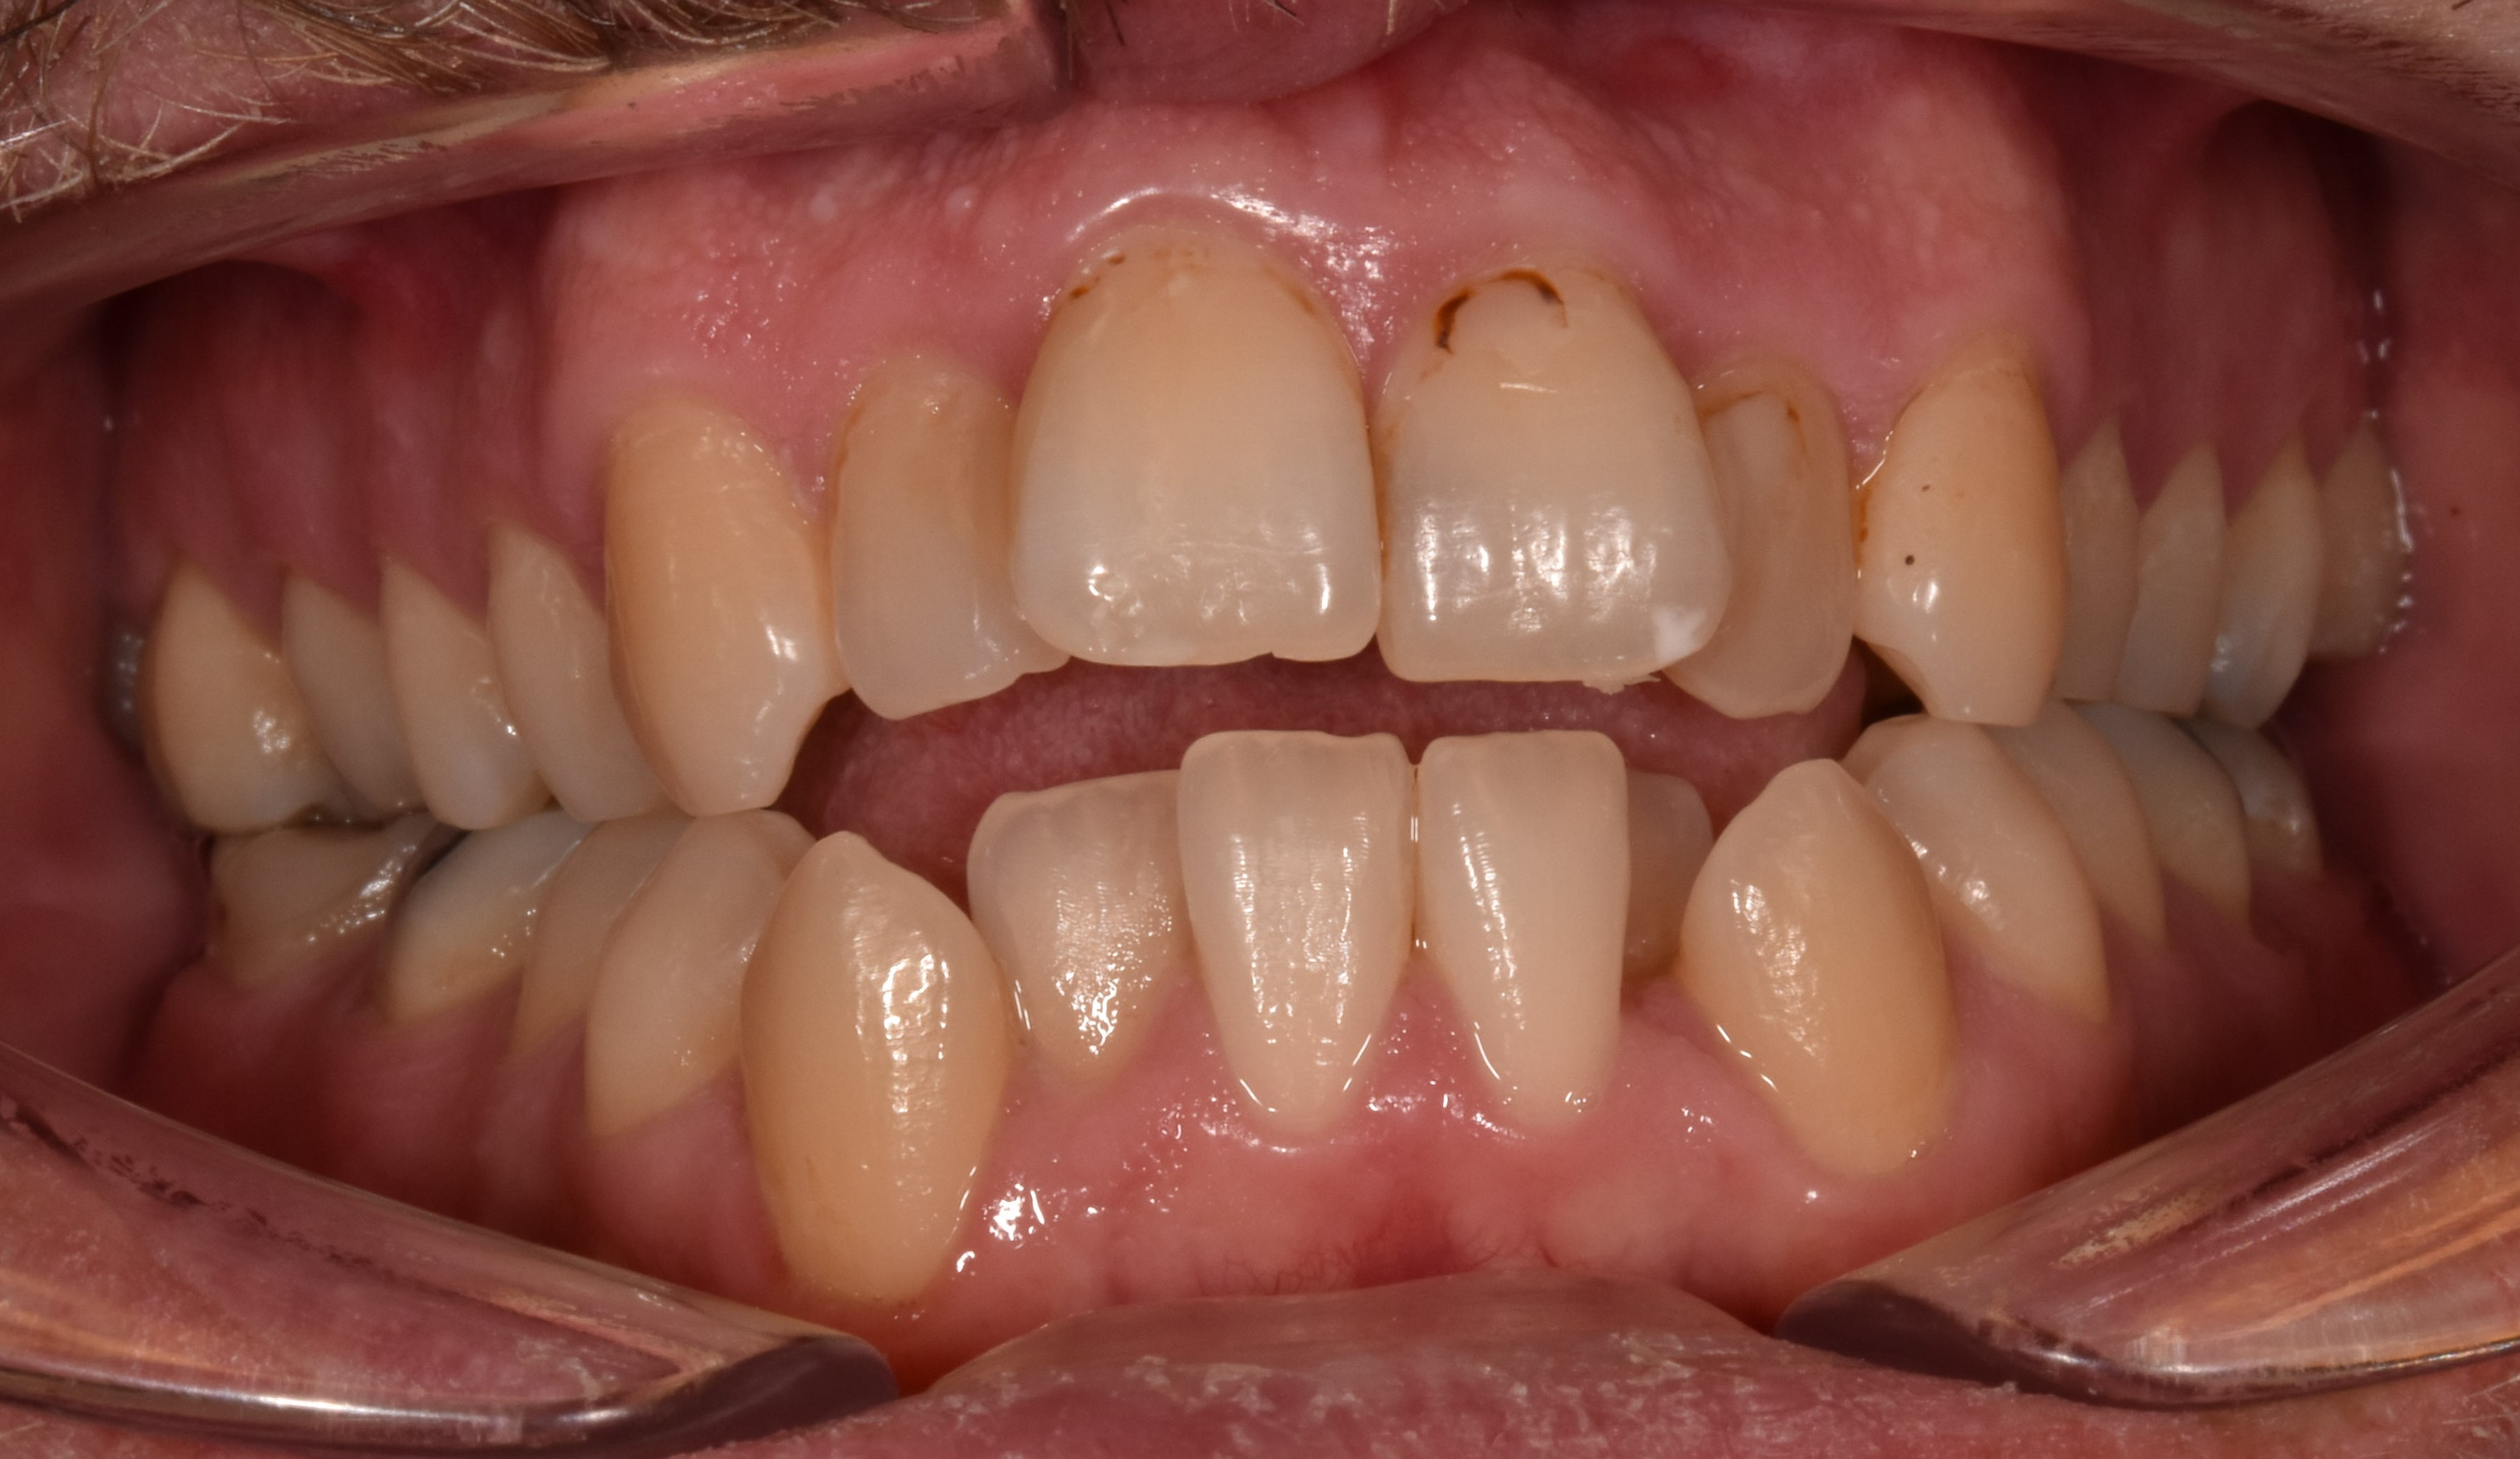LL1BC_healthy: (1890, 729, 2112, 1023)
LL1M_healthy: (2133, 728, 2249, 933)
LL2BC_healthy: (2016, 731, 2166, 980)
LL2M_mdecay: (2235, 736, 2317, 882)
LLCI_healthy: (1424, 731, 1624, 1115)
LLC_healthy: (1690, 759, 1956, 1171)
LLLI_healthy: (1627, 771, 1707, 974)
LR1BC_healthy: (585, 809, 738, 1131)
LR1M_sdecay: (368, 832, 537, 1021)
LR2BC_healthy: (516, 827, 592, 1044)
LR2M_sdecay: (203, 827, 398, 994)
LRCI_healthy: (1183, 729, 1410, 1139)
LRC_healthy: (740, 832, 997, 1297)
LRLI_healthy: (973, 775, 1183, 1084)
UL1BC_healthy: (2070, 431, 2140, 705)
UL1M_healthy: (2225, 460, 2315, 723)
UL2BC_healthy: (2143, 438, 2221, 716)
UL2M_healthy: (2322, 429, 2393, 660)
ULCI_mdecay: (1381, 274, 1719, 676)
ULC_mdecay: (1851, 351, 2065, 724)
ULLI_mdecay: (1704, 379, 1851, 716)
UR1BC_healthy: (490, 528, 611, 844)
UR1M_healthy: (299, 570, 386, 841)
UR2BC_healthy: (379, 568, 500, 829)
UR2M_mdecay: (137, 575, 295, 837)
URCI_mdecay: (1009, 228, 1381, 663)
URC_mdecay: (606, 406, 825, 811)
URLI_mdecay: (830, 379, 1004, 723)
